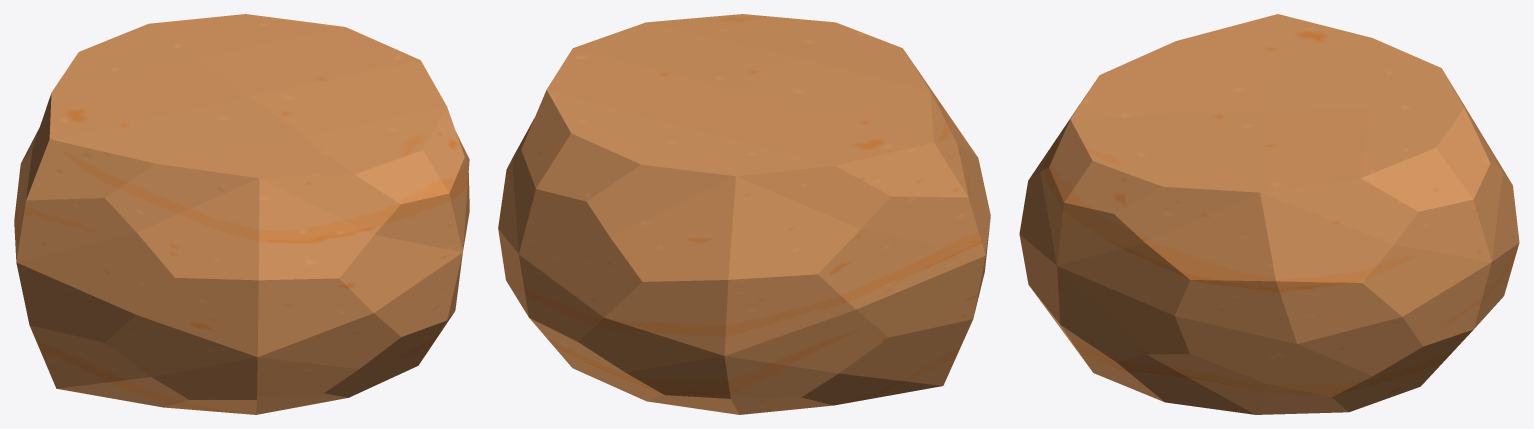
File: rock1.fbx
3 views of the same model, side by side, from view 1: azimuth 30°, elevation 25°; view 2: azimuth 150°, elevation 25°; view 3: azimuth 270°, elevation 25° (orthographic). The views are drawn at different scales.
Visible parts, largest first — view 1: Plane; view 2: Plane; view 3: Plane.
Boxes of the visible parts, x1,y1,x2,y2 form: Plane: [14, 14, 469, 414]; Plane: [498, 14, 990, 414]; Plane: [1019, 14, 1519, 414].
Size of the model in its own units: 184 by 100 by 187.
